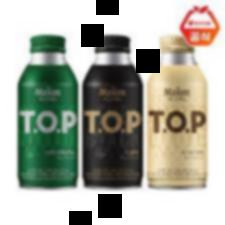TOP_black: (79, 31, 146, 191)
